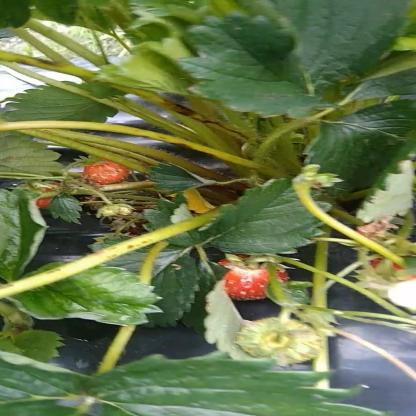ripe: (216, 256, 296, 301), (11, 178, 66, 208), (363, 254, 416, 283), (85, 161, 130, 185)
unripe: (236, 316, 326, 366)
